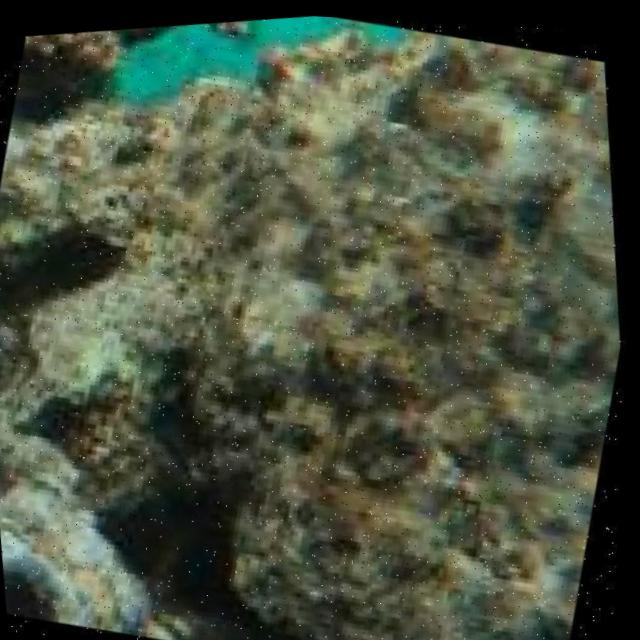Dead Coral: (159, 38, 639, 640)
